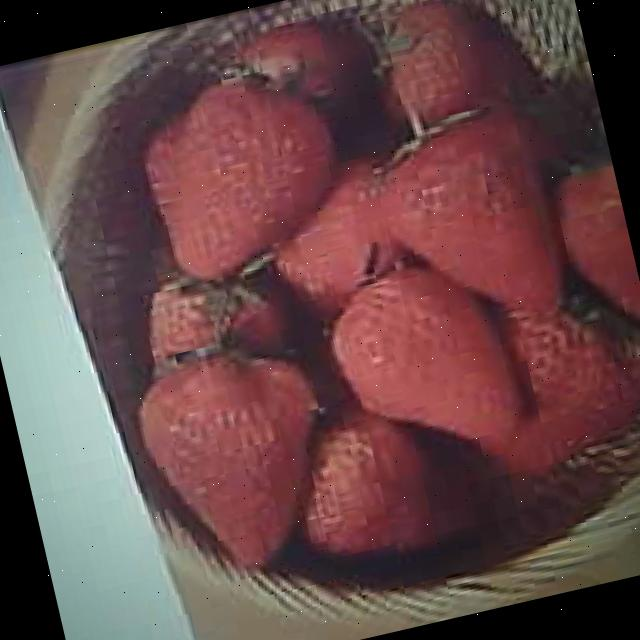strawberry: (134, 344, 350, 584), (145, 64, 356, 284), (373, 110, 566, 340), (321, 253, 525, 464)
